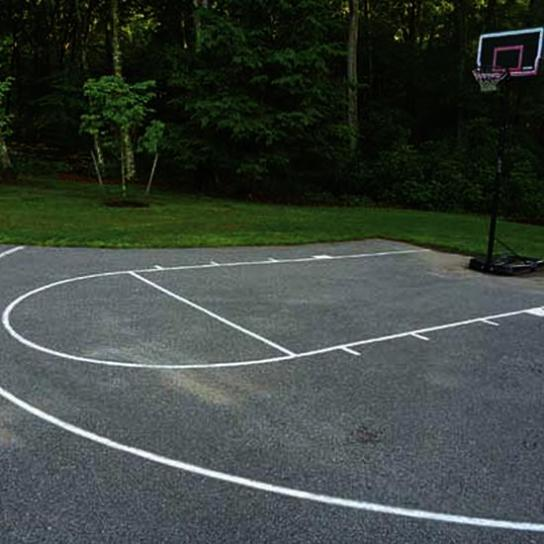basketball-hoop: (469, 62, 507, 94)
